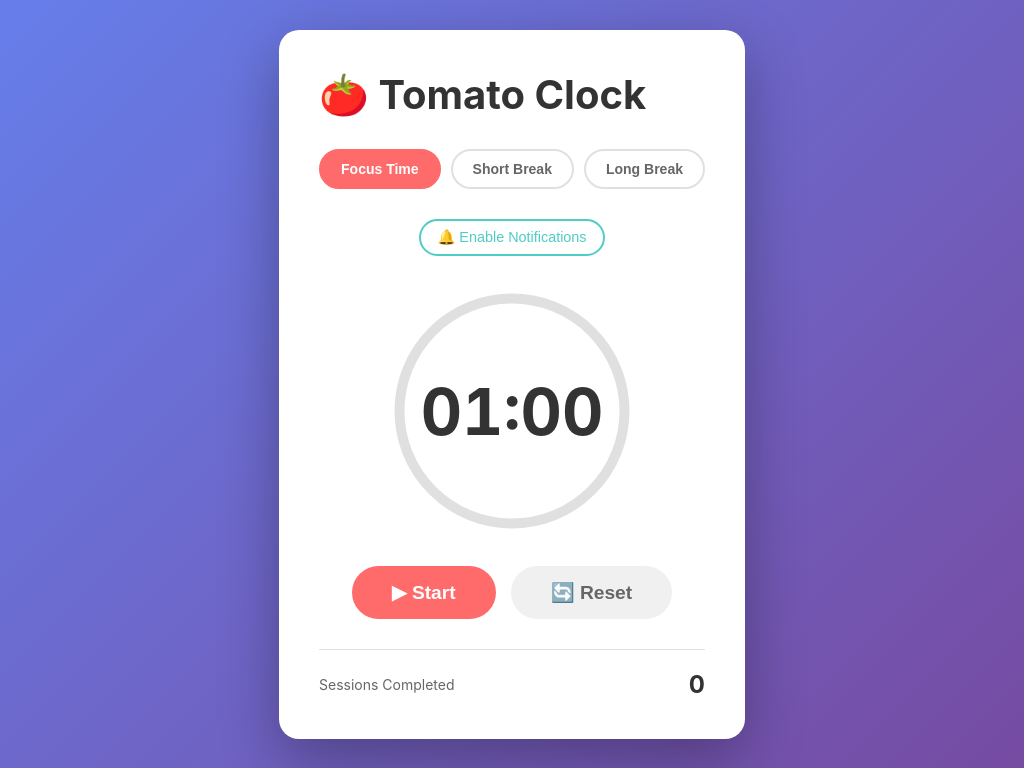
Test case: App › starts timer when start button is clicked
Click the button "▶ Start" at (424, 592), box [352,566,496,618]
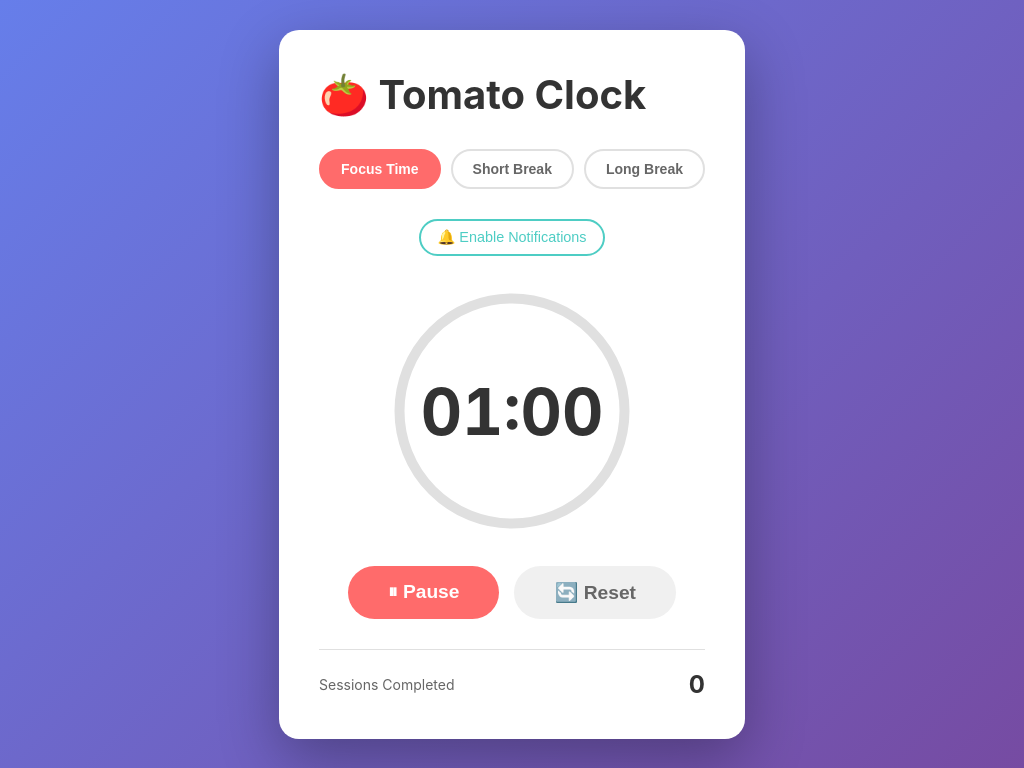
Check: the button "⏸ Pause" is shown, box [348,566,500,618]
